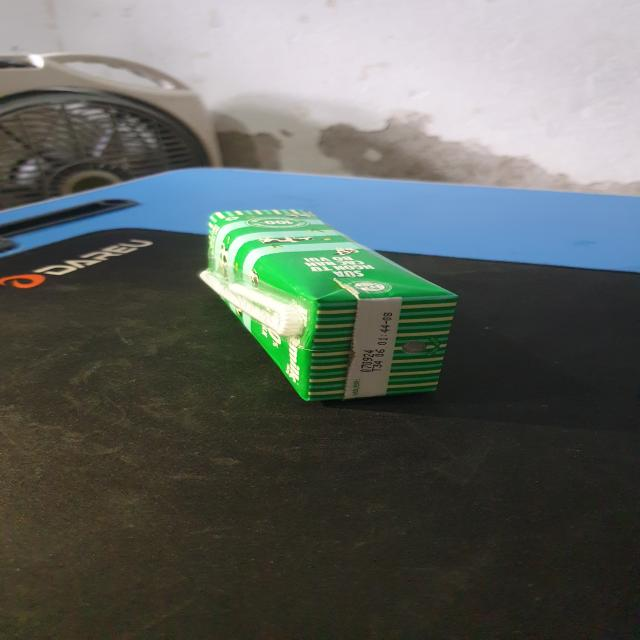Vina: (204, 209, 463, 404)
